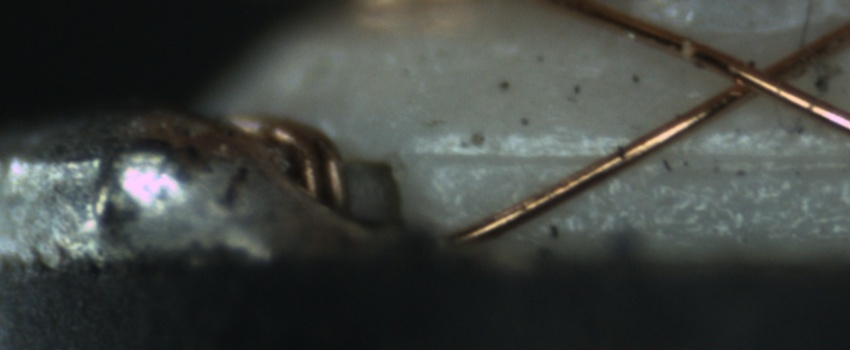CL: (692, 44, 824, 109)
DL: (413, 128, 850, 187)
TE: (232, 108, 350, 222)
